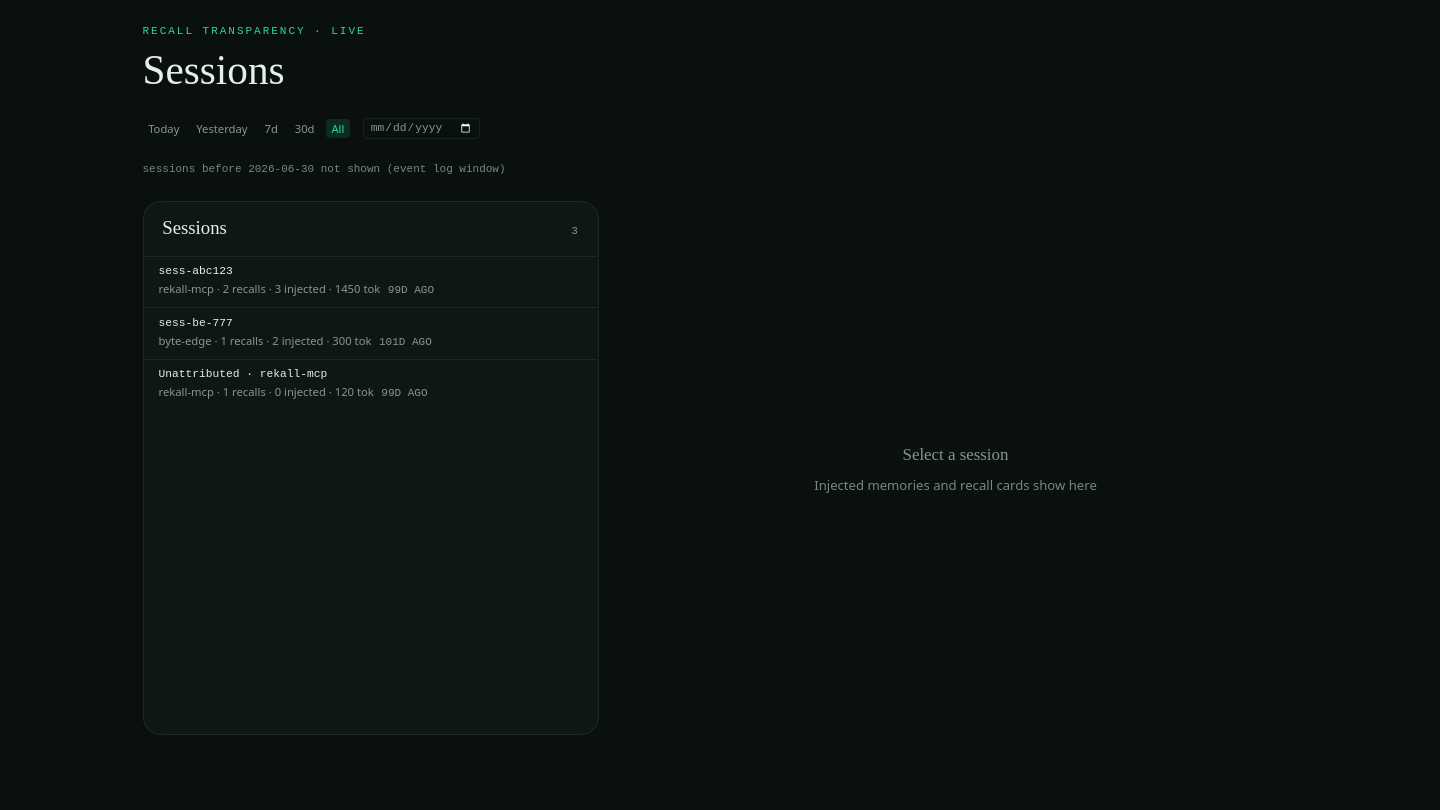
Scenario: Sessions surface › a recorded verdict shows a success toast
Click the text "sess-abc123".
click(196, 272)  # box [158,264,233,279]
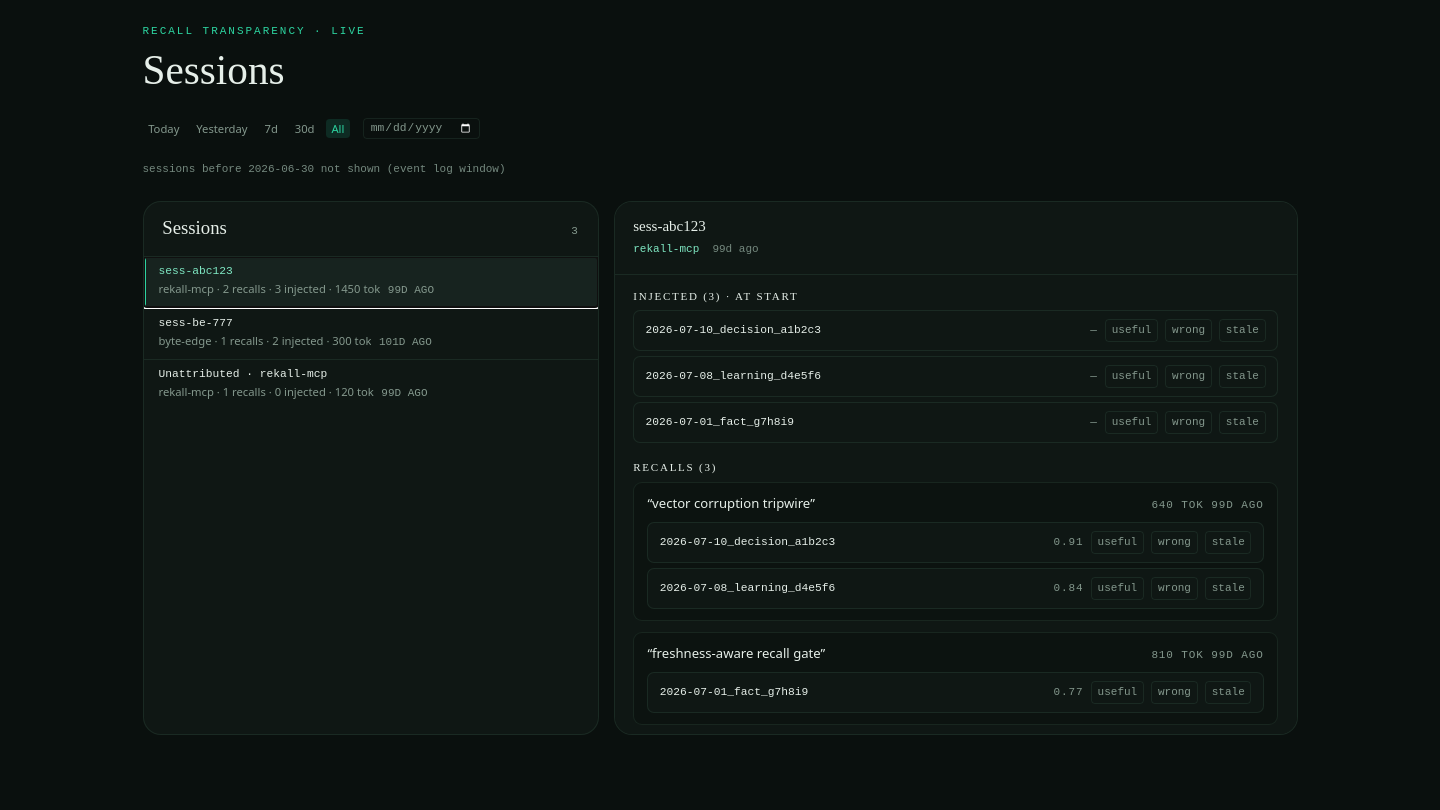
Expected: the text "“vector corruption tripwire”" is shown, [647,494,815,513]
Click the button with aria-label "mark 2026-07-10_decision_a1b2c3 wrong".
click(1189, 330)  # box [1166,319,1212,342]
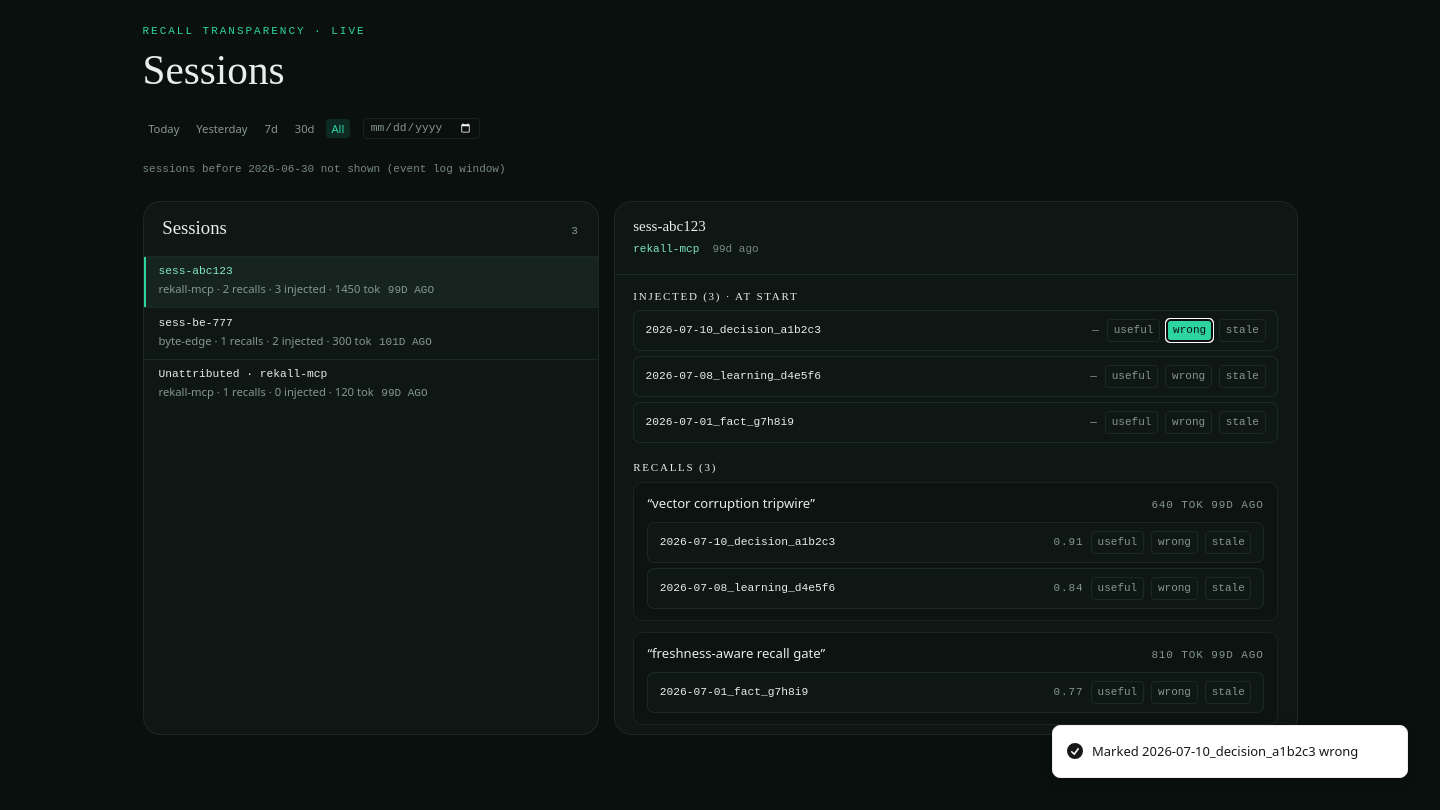
Expected: the text "Marked 2026-07-10_decision_a1b2c3 wrong" is shown, [1092,742,1358,761]
